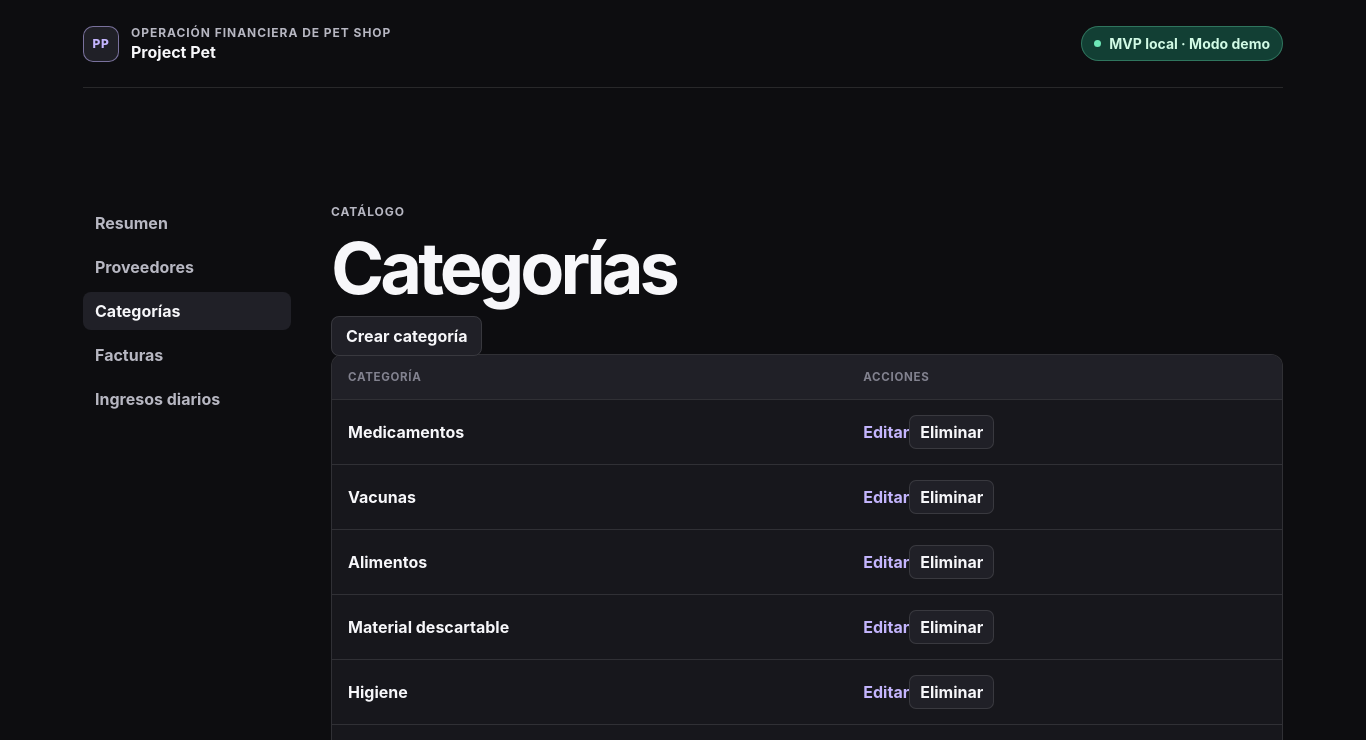
it: AppRouter › navigates from a category list edit link to the pre-filled category form
The image size is (1366, 740).
Click the link with aria-label "Editar Medicamentos" at (886, 432), box [863,422,909,442]
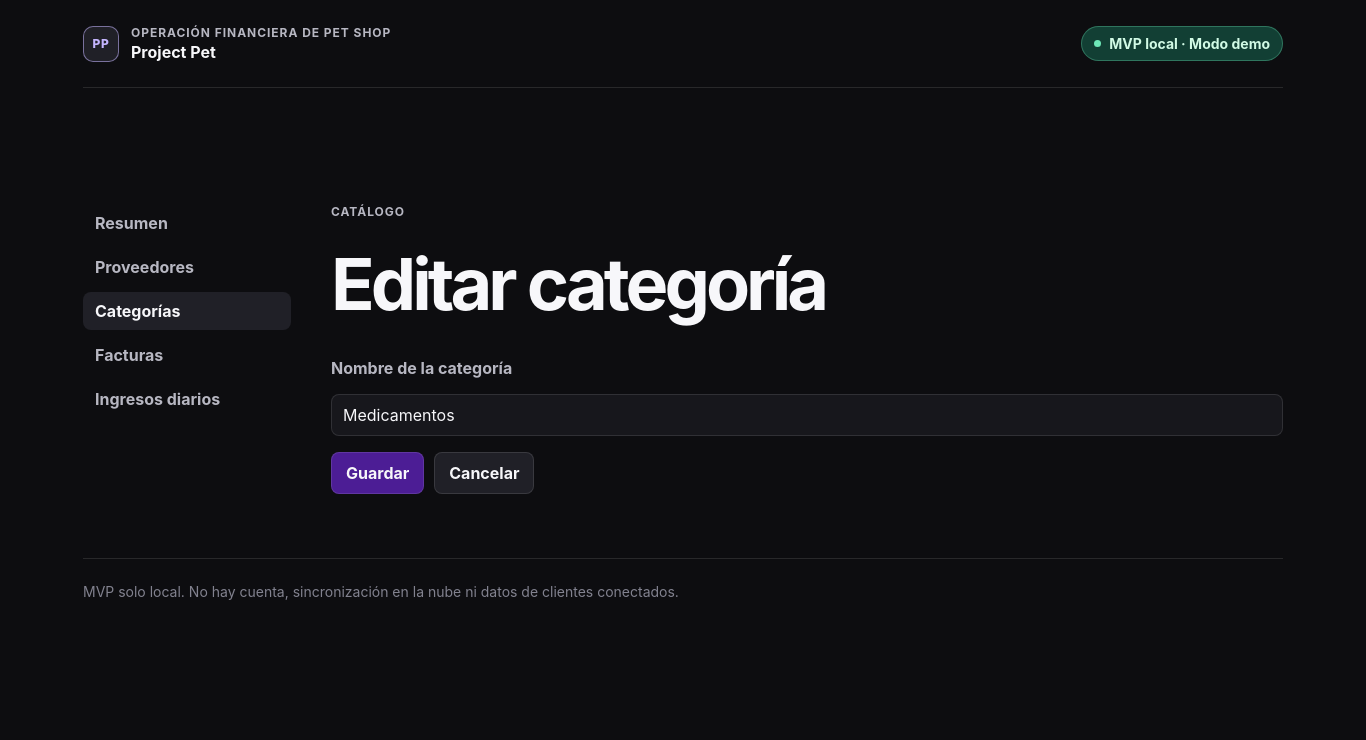
expect the heading "Editar categoría" is shown: met, box [331,240,825,327]
expect the field labelled "Nombre de la categoría" holds "Medicamentos": met, box [331,394,1283,436]
